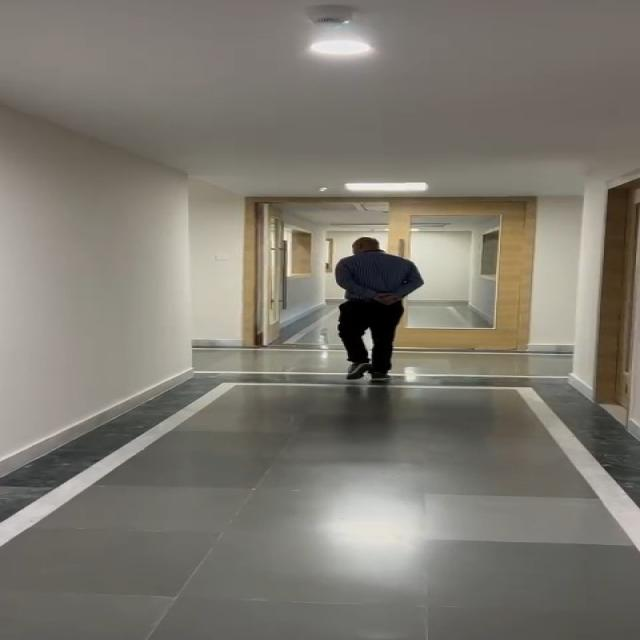door: (595, 184, 640, 400)
floor: (198, 385, 640, 640), (11, 468, 213, 640)
moving_object: (305, 222, 430, 394)
wall: (0, 101, 195, 393), (536, 165, 603, 363)
